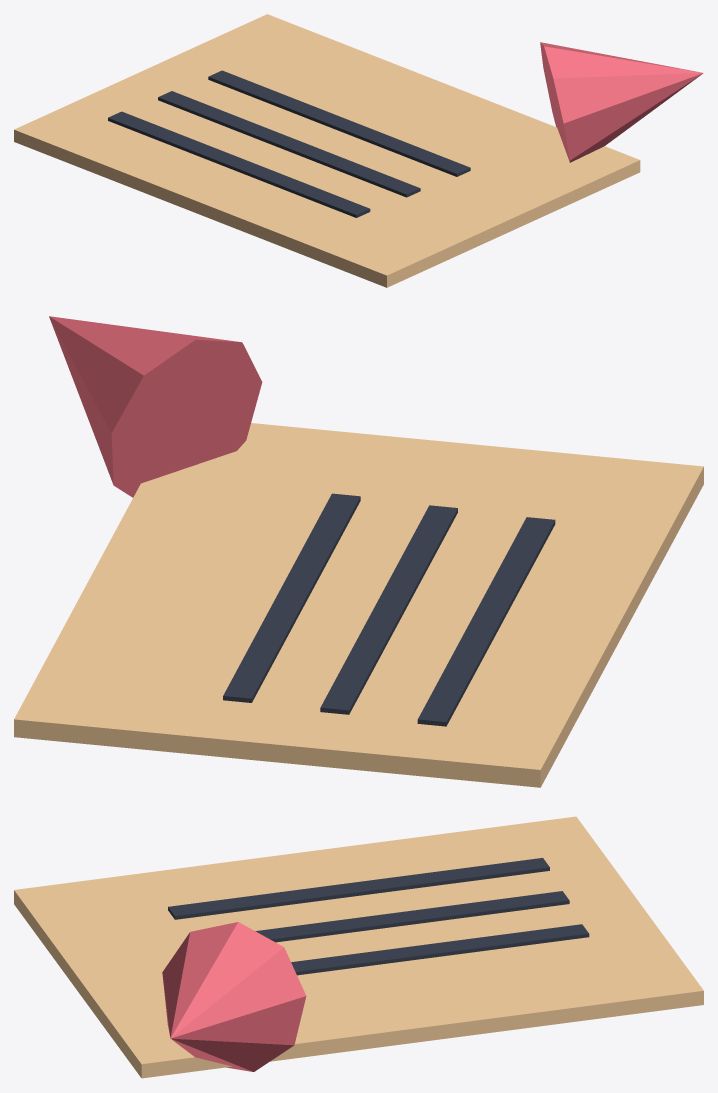
File: decor_litter3.glb
The picture shows the model from 3 angles, top to bottom: view 1: azimuth 30°, elevation 25°; view 2: azimuth 150°, elevation 25°; view 3: azimuth 270°, elevation 25°; orthographic projection. The views are drawn at different scales.
Parts seen in each view (by area): view 1: decor_litter3; view 2: decor_litter3; view 3: decor_litter3.
Boxes of the visible parts, <box> form: decor_litter3: <box>14,14,703,287</box>; decor_litter3: <box>14,316,703,787</box>; decor_litter3: <box>14,816,703,1078</box>.
Size of the model in its own units: 0.3507 by 0.0765 by 0.3516.
